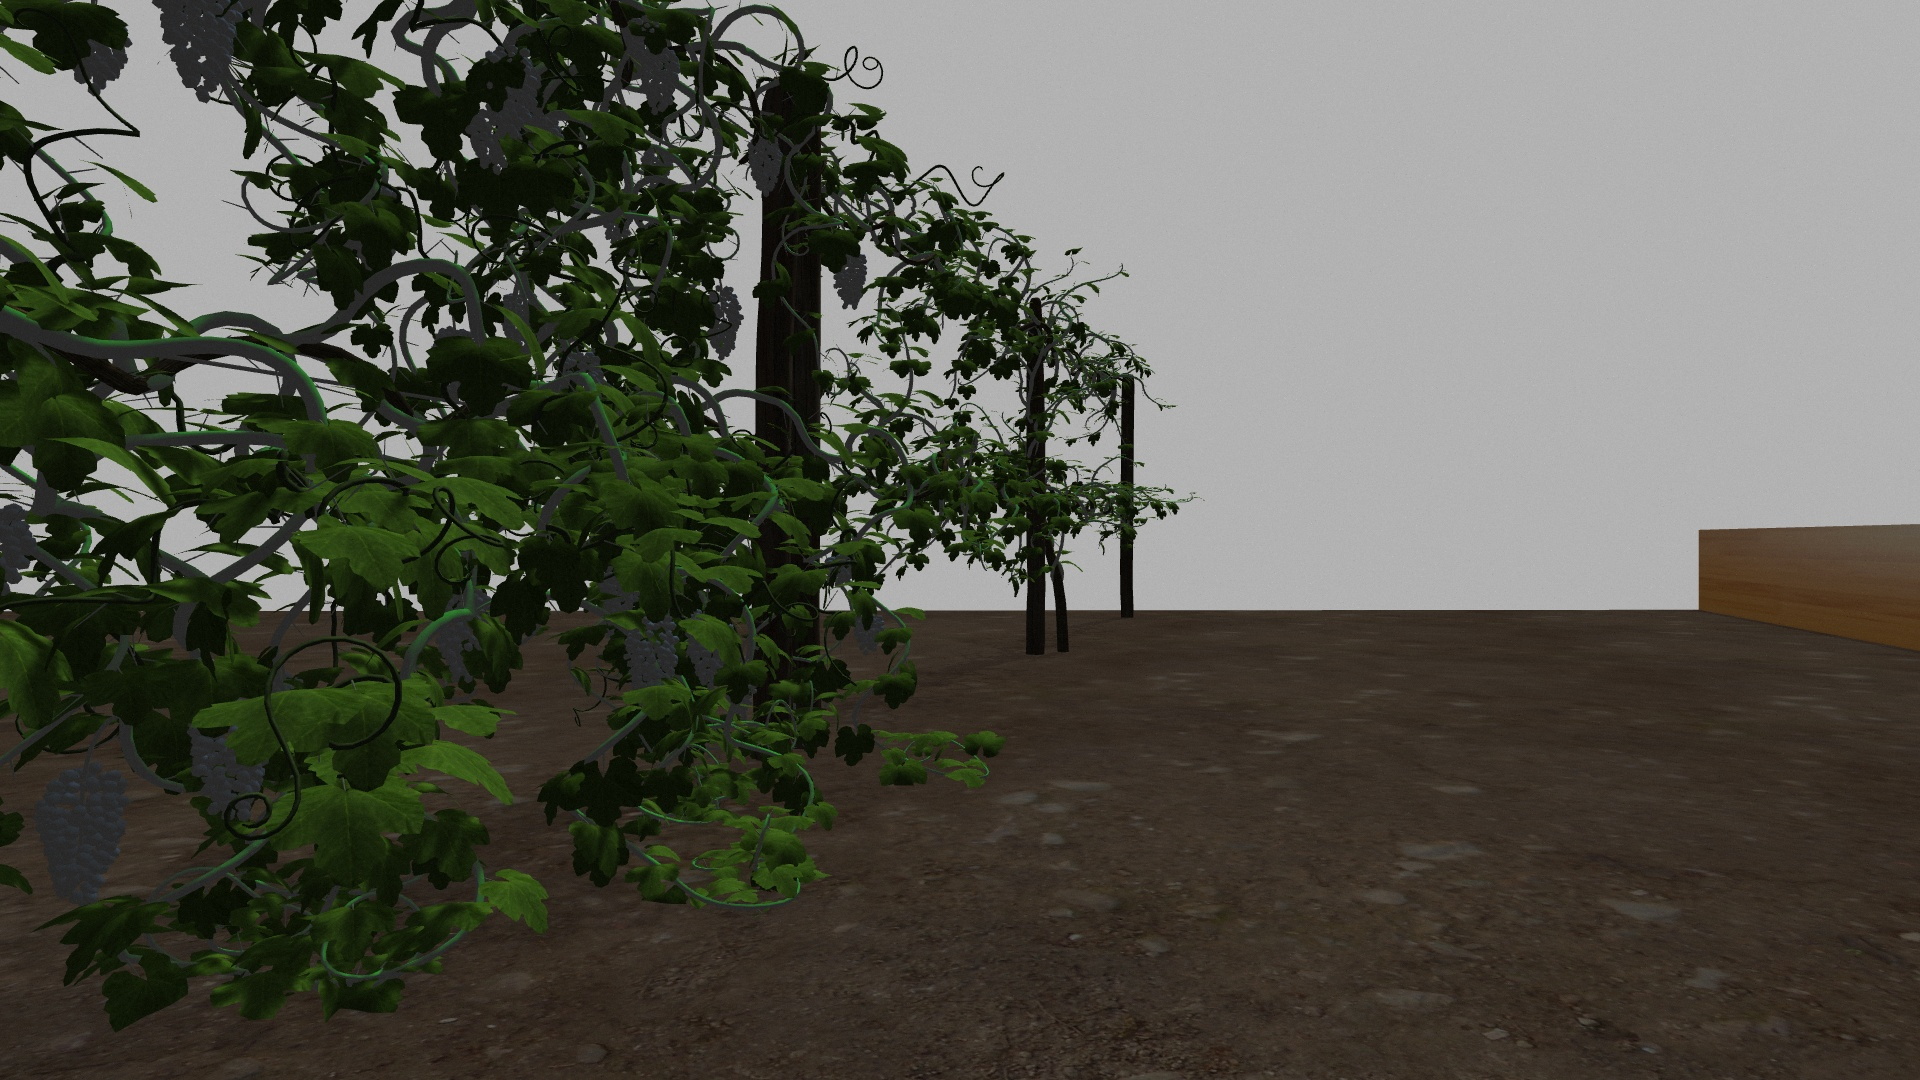grape: (25, 767, 135, 905), (186, 721, 278, 825), (157, 12, 247, 104), (484, 44, 539, 133), (626, 613, 680, 690), (70, 33, 131, 98), (436, 601, 480, 680), (637, 47, 680, 116), (705, 287, 744, 360), (465, 109, 509, 173), (829, 252, 869, 313), (746, 137, 785, 198), (3, 506, 38, 566), (686, 636, 724, 687), (853, 607, 884, 657)
